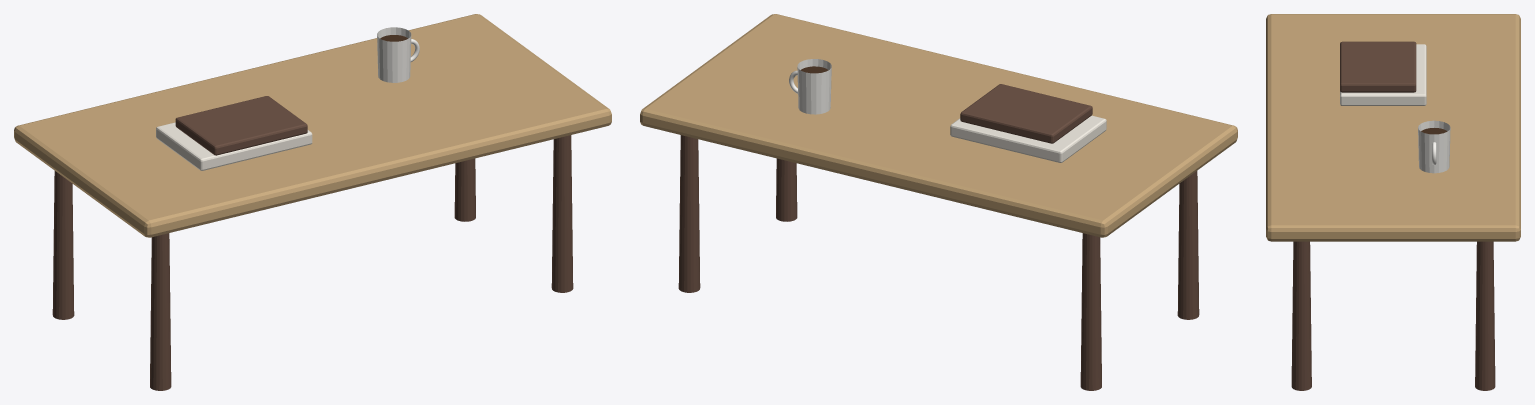
The model's file is coffeeTable.glb.
3 views of the same model, side by side, from view 1: azimuth 30°, elevation 25°; view 2: azimuth 150°, elevation 25°; view 3: azimuth 270°, elevation 25° (orthographic). The views are drawn at different scales.
Parts seen in each view (by area): view 1: top, book2, leg-1-1.001, leg1-1.001, leg-11.001, book1, mugWall, leg11.001; view 2: top, book2, leg-11.001, leg11.001, book1, leg-1-1.001, mugWall, leg1-1.001; view 3: top, book2, leg1-1.001, leg11.001, book1, mugWall.
Boxes of the visible parts, <box> form: top: <box>14,14,611,237</box>; book2: <box>175,96,307,155</box>; leg-1-1.001: <box>150,233,171,390</box>; leg1-1.001: <box>551,135,573,292</box>; leg-11.001: <box>52,171,74,319</box>; book1: <box>156,122,312,170</box>; mugWall: <box>377,27,411,82</box>; leg11.001: <box>454,158,475,221</box>; top: <box>640,14,1237,237</box>; book2: <box>960,84,1092,143</box>; leg-11.001: <box>1080,233,1101,390</box>; leg11.001: <box>678,135,700,292</box>; book1: <box>950,115,1106,162</box>; leg-1-1.001: <box>1177,171,1199,319</box>; mugWall: <box>797,59,831,114</box>; leg1-1.001: <box>776,158,797,221</box>; top: <box>1266,14,1520,241</box>; book2: <box>1340,41,1416,92</box>; leg1-1.001: <box>1291,241,1311,390</box>; leg11.001: <box>1475,241,1495,390</box>; book1: <box>1340,44,1426,105</box>; mugWall: <box>1418,120,1450,173</box>.
Bounding box in the file's own units: 1 × 0.463 × 0.5.
